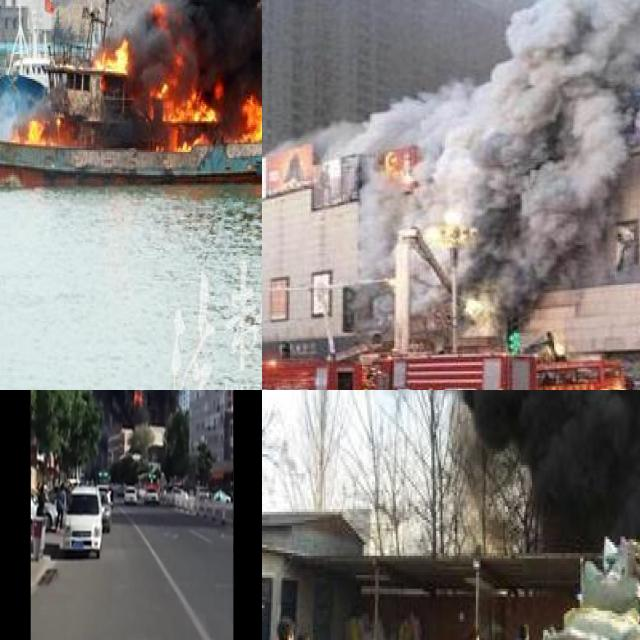fire: (151, 69, 262, 146), (373, 143, 420, 184), (13, 115, 55, 146), (92, 39, 128, 73), (132, 390, 142, 403)
smoke: (356, 0, 640, 323), (264, 390, 640, 545), (0, 78, 61, 140)
